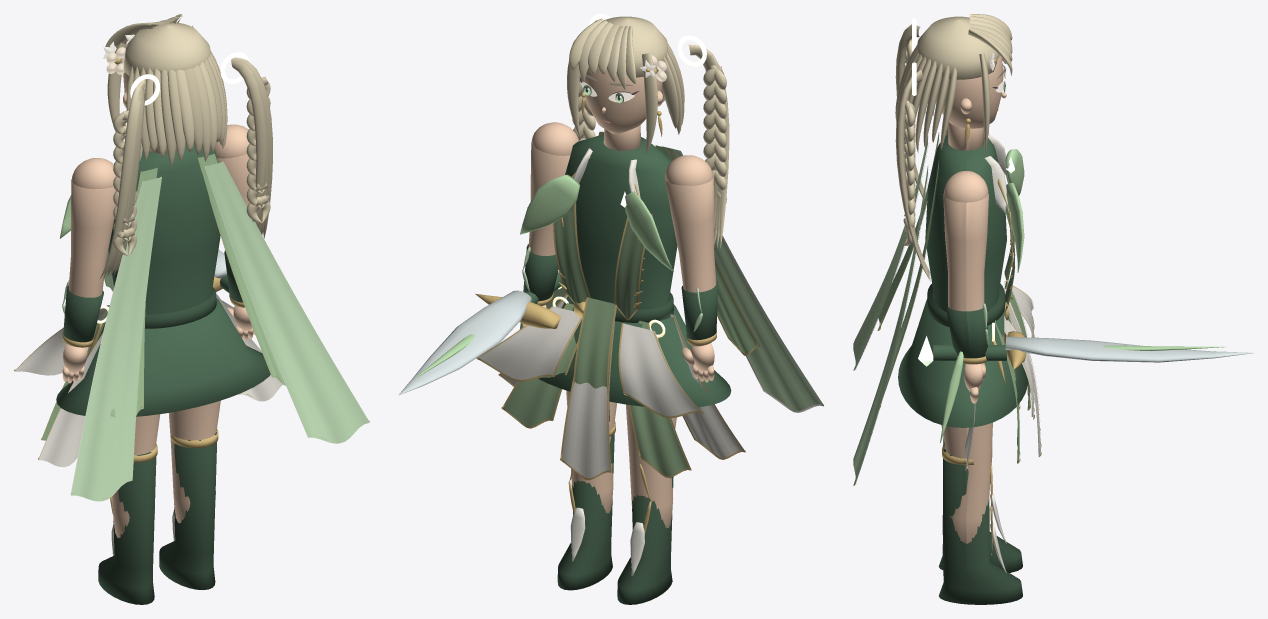
The model's file is character_17.glb.
3 renders of one model, left to right at view 1: azimuth 30°, elevation 25°; view 2: azimuth 150°, elevation 25°; view 3: azimuth 270°, elevation 25°, orthographic.
Parts seen in each view (by area): view 1: _MeshInstance3D_5063, _MeshInstance3D_5134, _MeshInstance3D_5098, _MeshInstance3D_5096, _MeshInstance3D_5104, _MeshInstance3D_5109, _MeshInstance3D_5101, _MeshInstance3D_5135, _MeshInstance3D_5136, _MeshInstance3D_5108, _MeshInstance3D_5140, _MeshInstance3D_5112 (+11 smaller); view 2: _MeshInstance3D_5063, _MeshInstance3D_5134, _MeshInstance3D_5104, _MeshInstance3D_5096, _MeshInstance3D_5067, _MeshInstance3D_5114, _MeshInstance3D_5109, _MeshInstance3D_5085, _MeshInstance3D_5101, _MeshInstance3D_5069, _MeshInstance3D_5091, _MeshInstance3D_5112 (+22 smaller); view 3: _MeshInstance3D_5063, _MeshInstance3D_5134, _MeshInstance3D_5112, _MeshInstance3D_5109, _MeshInstance3D_5108, _MeshInstance3D_5114, _MeshInstance3D_5121, _MeshInstance3D_5140, _MeshInstance3D_5098, _MeshInstance3D_5137, _MeshInstance3D_5113, _MeshInstance3D_5096 (+12 smaller).
Boxes of the visible parts, bbox=[...] form: _MeshInstance3D_5063: bbox=[56, 142, 270, 416]; _MeshInstance3D_5134: bbox=[100, 14, 268, 278]; _MeshInstance3D_5098: bbox=[205, 162, 369, 443]; _MeshInstance3D_5096: bbox=[71, 177, 161, 501]; _MeshInstance3D_5104: bbox=[62, 158, 115, 383]; _MeshInstance3D_5109: bbox=[159, 430, 217, 589]; _MeshInstance3D_5101: bbox=[98, 445, 156, 604]; _MeshInstance3D_5135: bbox=[126, 55, 225, 161]; _MeshInstance3D_5136: bbox=[140, 51, 227, 166]; _MeshInstance3D_5108: bbox=[169, 400, 220, 523]; _MeshInstance3D_5140: bbox=[107, 57, 272, 276]; _MeshInstance3D_5112: bbox=[215, 124, 255, 340]; _MeshInstance3D_5063: bbox=[538, 134, 731, 407]; _MeshInstance3D_5134: bbox=[567, 16, 729, 248]; _MeshInstance3D_5104: bbox=[665, 155, 716, 382]; _MeshInstance3D_5096: bbox=[662, 146, 823, 410]; _MeshInstance3D_5067: bbox=[620, 323, 701, 416]; _MeshInstance3D_5114: bbox=[399, 290, 531, 394]; _MeshInstance3D_5109: bbox=[557, 423, 614, 590]; _MeshInstance3D_5085: bbox=[562, 322, 614, 478]; _MeshInstance3D_5101: bbox=[617, 476, 673, 604]; _MeshInstance3D_5069: bbox=[478, 306, 581, 379]; _MeshInstance3D_5091: bbox=[520, 174, 673, 271]; _MeshInstance3D_5112: bbox=[522, 122, 578, 327]; _MeshInstance3D_5063: bbox=[898, 134, 1028, 427]; _MeshInstance3D_5134: bbox=[898, 14, 1012, 278]; _MeshInstance3D_5112: bbox=[943, 171, 988, 403]; _MeshInstance3D_5109: bbox=[939, 449, 1022, 604]; _MeshInstance3D_5108: bbox=[941, 422, 992, 543]; _MeshInstance3D_5114: bbox=[1005, 336, 1253, 362]; _MeshInstance3D_5121: bbox=[936, 56, 1006, 128]; _MeshInstance3D_5140: bbox=[895, 27, 930, 280]; _MeshInstance3D_5098: bbox=[853, 166, 927, 485]; _MeshInstance3D_5137: bbox=[903, 16, 1012, 245]; _MeshInstance3D_5113: bbox=[946, 303, 987, 358]; _MeshInstance3D_5096: bbox=[853, 136, 927, 370].
Size of the model in its own units: 1.26 by 2.27 by 1.47.
